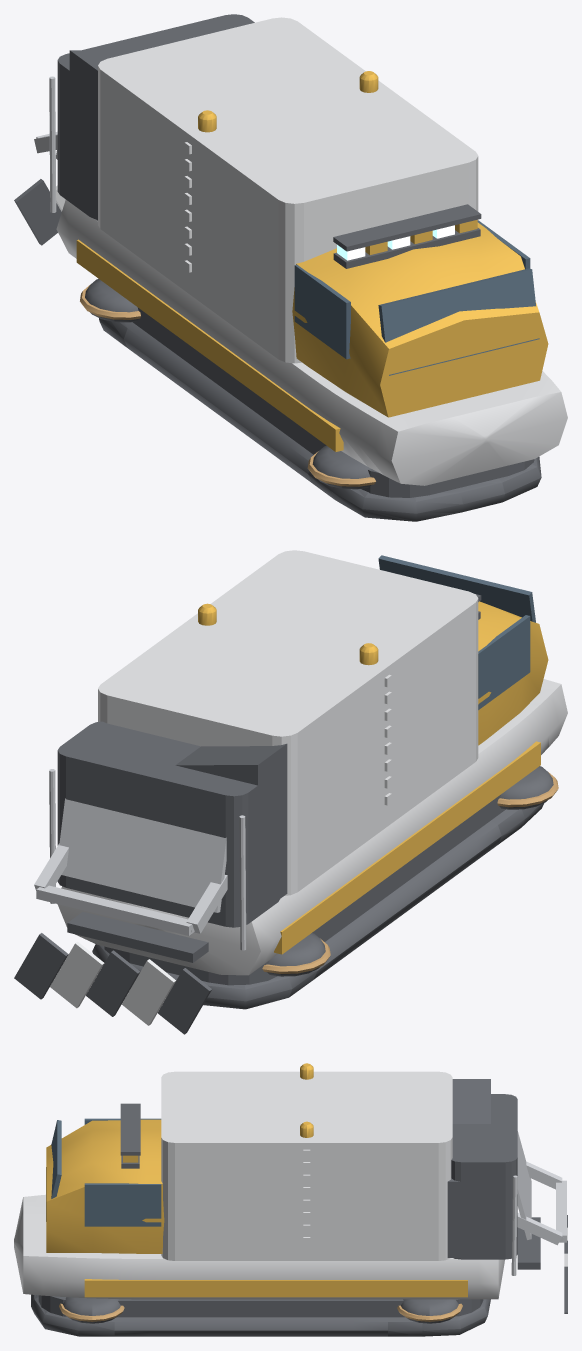
The model's file is hover-transit-and-antigrav-fleet-refuse-collector-cb7b42d4__17097.glb.
The picture shows the model from 3 angles, top to bottom: view 1: azimuth 30°, elevation 25°; view 2: azimuth 150°, elevation 25°; view 3: azimuth 270°, elevation 25°; orthographic projection. The views are drawn at different scales.
Parts seen in each view (by area): view 1: refuse-collector; view 2: refuse-collector, bin-lift; view 3: refuse-collector, bin-lift.
Part boxes in pixels (bbox=[...]): refuse-collector: bbox=[14, 14, 567, 521]; refuse-collector: bbox=[14, 550, 567, 1034]; bin-lift: bbox=[34, 843, 227, 935]; refuse-collector: bbox=[14, 1063, 567, 1336]; bin-lift: bbox=[517, 1161, 566, 1245].
Size of the model in its own units: 2.67 by 3.05 by 7.23.
